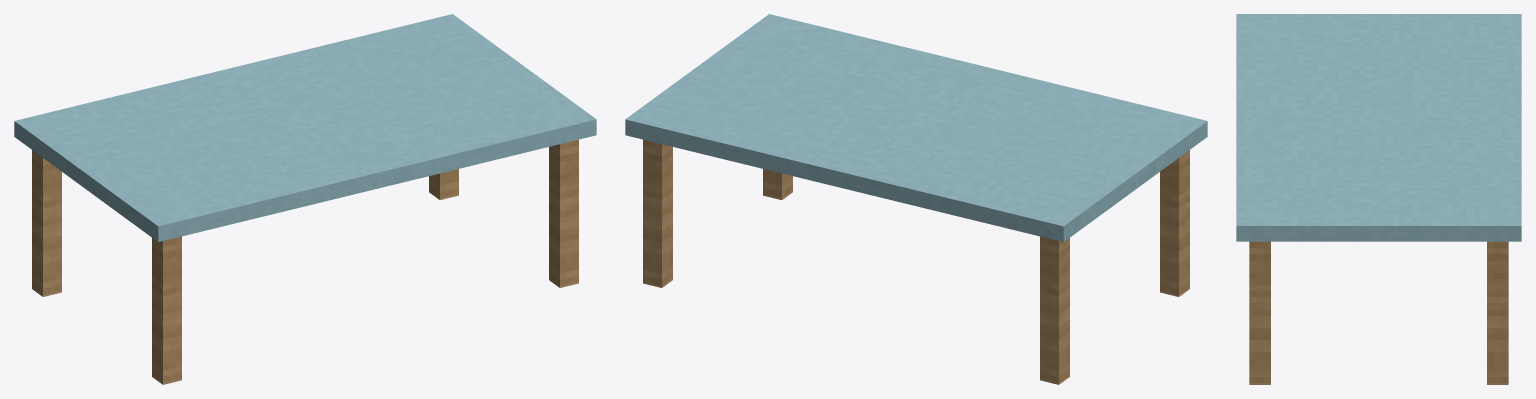
Rendered from coffee_table.glb.
The picture shows the model from 3 angles, left to right: view 1: azimuth 30°, elevation 25°; view 2: azimuth 150°, elevation 25°; view 3: azimuth 270°, elevation 25°; orthographic projection.
Parts seen in each view (by area): view 1: coffee_table; view 2: coffee_table; view 3: coffee_table.
Part boxes in pixels (x1,y1,x2,y2): coffee_table: (14,14,596,384); coffee_table: (625,14,1207,384); coffee_table: (1236,14,1521,384).
Bounding box in the file's own units: 1.16 × 0.42 × 0.66.
Materials: 2 (2 with a texture image).
